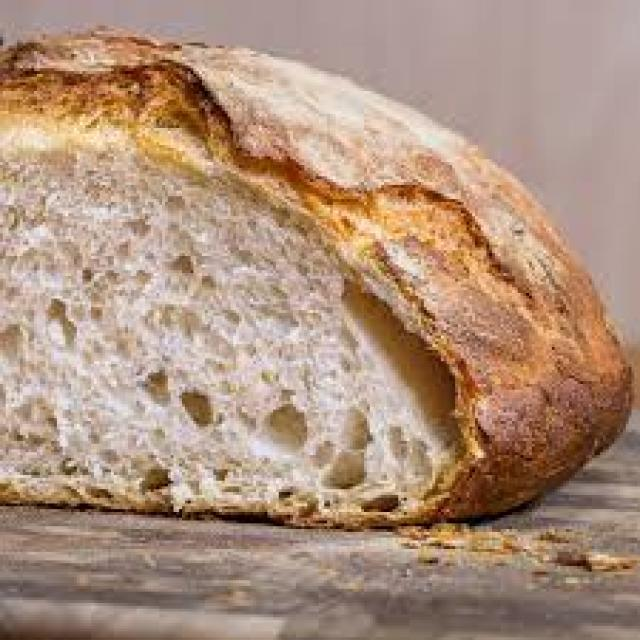organic waste: (0, 23, 637, 523)
